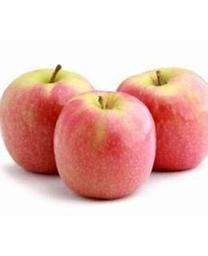apple: (52, 90, 156, 199), (0, 64, 95, 175), (115, 66, 207, 171)
